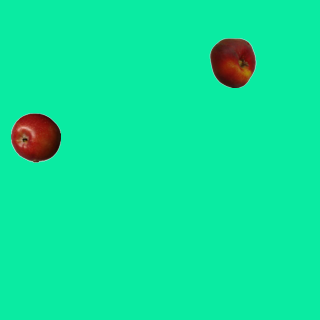Apple Braeburn: (10, 112, 60, 162)
Nectarine Flat: (207, 37, 257, 87)
